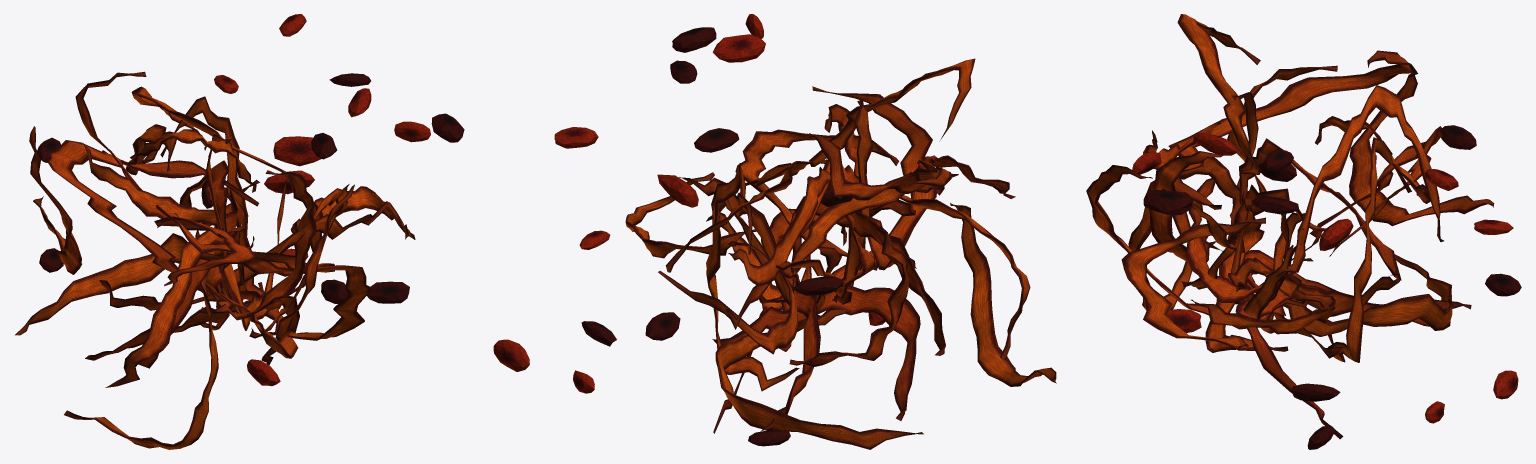
Rendered from fried-onion-spirals.glb.
3 renders of one model, left to right at view 1: azimuth 30°, elevation 25°; view 2: azimuth 150°, elevation 25°; view 3: azimuth 270°, elevation 25°, orthographic. The views are drawn at different scales.
Visible parts, largest first — view 1: helical-onion-coils; view 2: helical-onion-coils; view 3: helical-onion-coils.
Part boxes in pixels (bbox=[...]): helical-onion-coils: bbox=[15, 14, 464, 449]; helical-onion-coils: bbox=[493, 14, 1056, 449]; helical-onion-coils: bbox=[1086, 14, 1521, 449].
Bounding box in the file's own units: 0.0984 × 0.0795 × 0.0916.
1 material, 1 textured.
